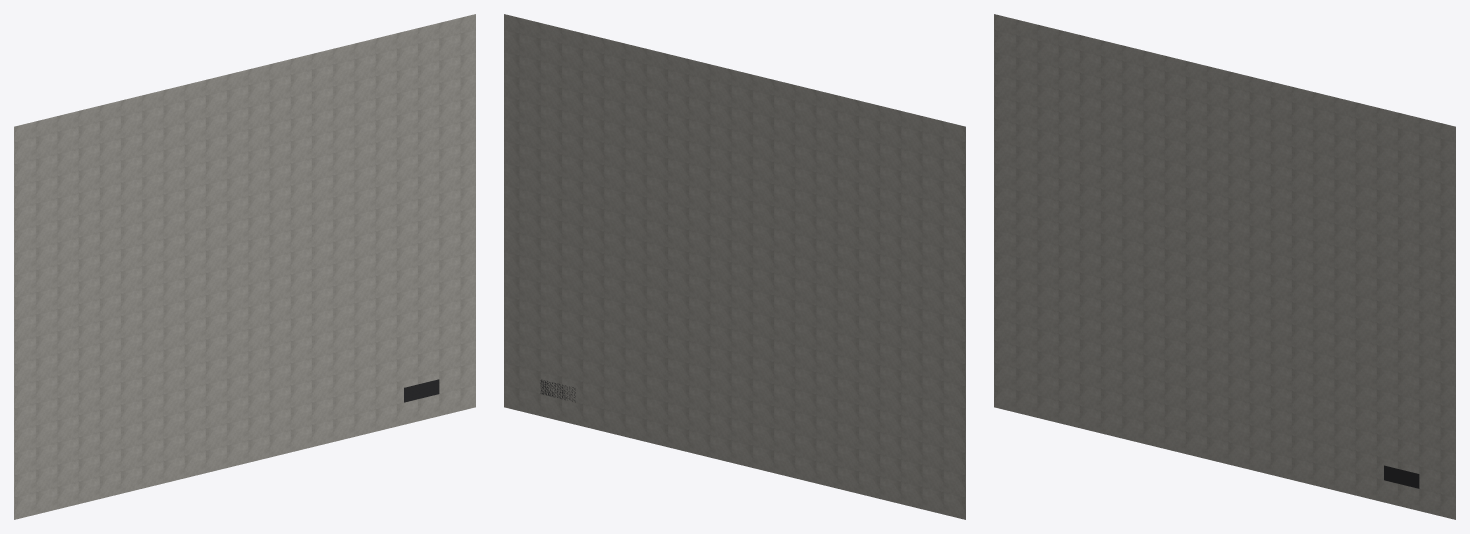
File: floor.gltf
The picture shows the model from 3 angles, left to right: view 1: azimuth 30°, elevation 25°; view 2: azimuth 150°, elevation 25°; view 3: azimuth 330°, elevation 25°; orthographic projection.
Parts seen in each view (by area): view 1: floor; view 2: floor; view 3: floor.
Part boxes in pixels (<box>): floor: <box>14,14,475,519</box>; floor: <box>504,14,965,519</box>; floor: <box>994,14,1455,519</box>.
Bounding box in the file's own units: 131 × 106 × 0.012.
2 materials, 2 textured.
